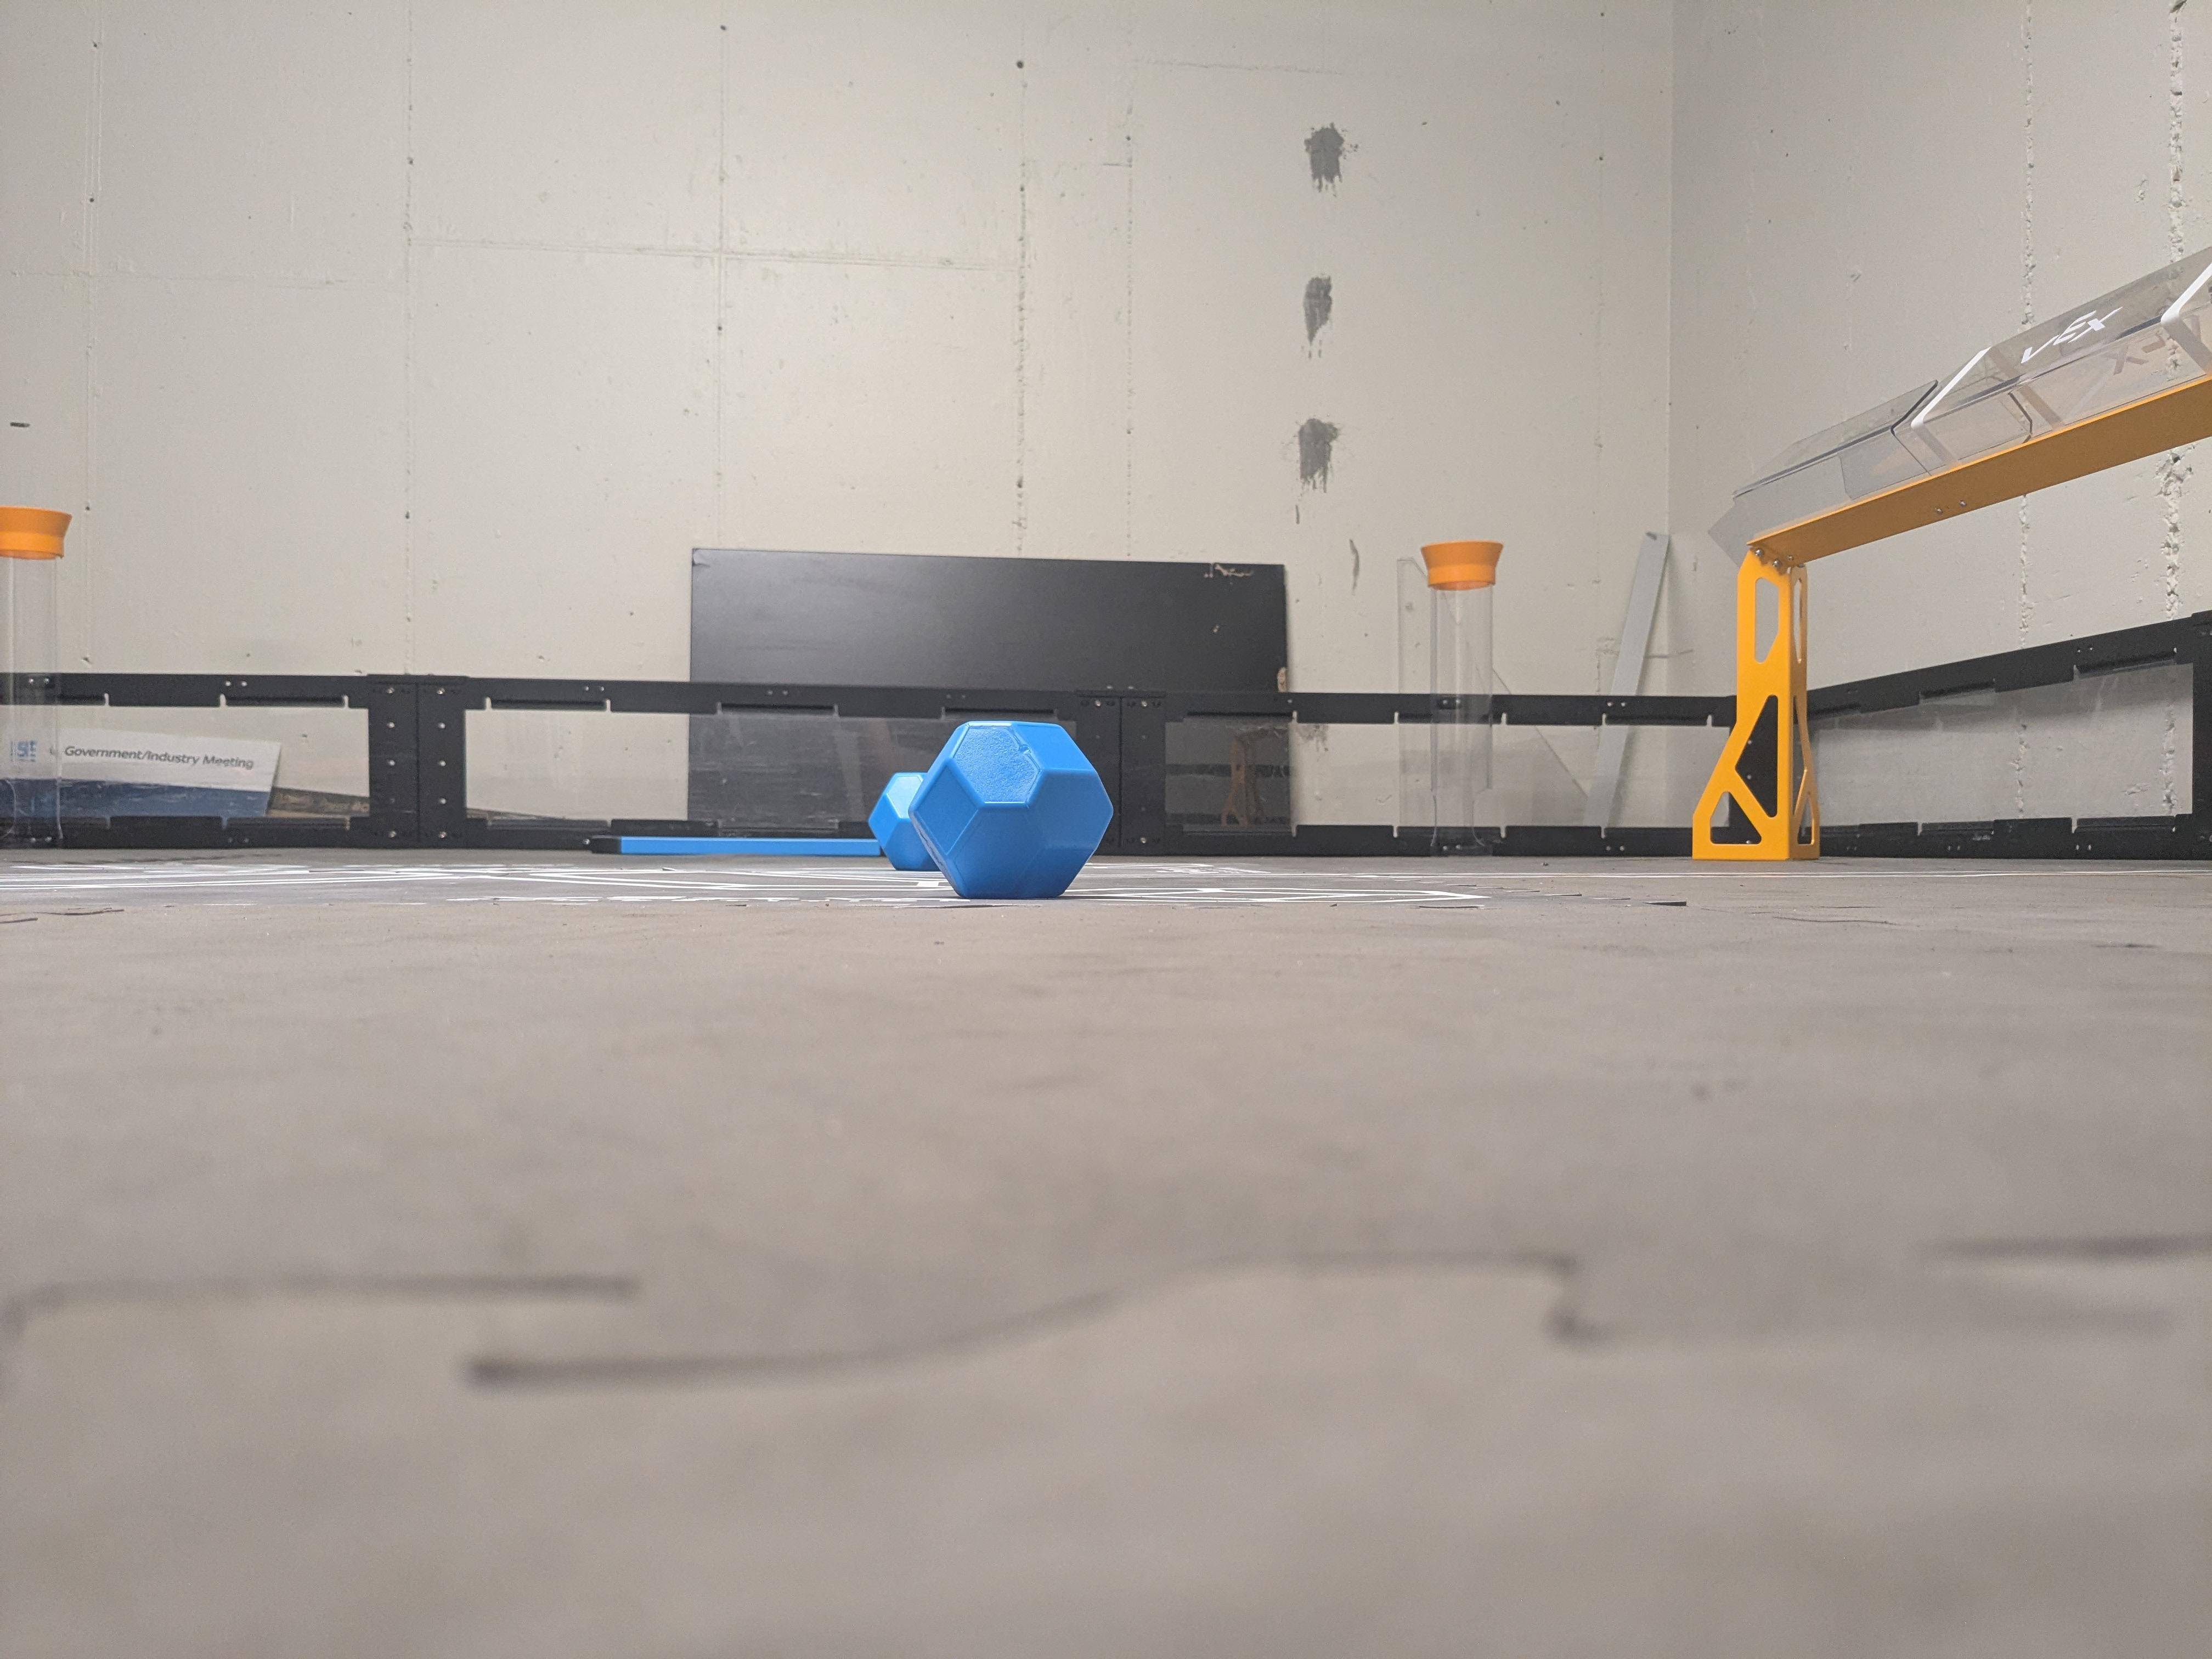Vex-Pieces-BLUE: (874, 720, 1113, 894)
